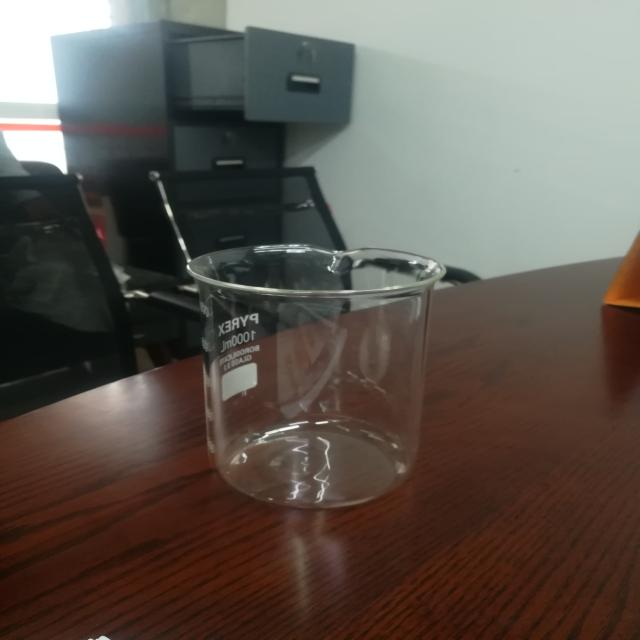Beaker: (162, 204, 474, 533)
